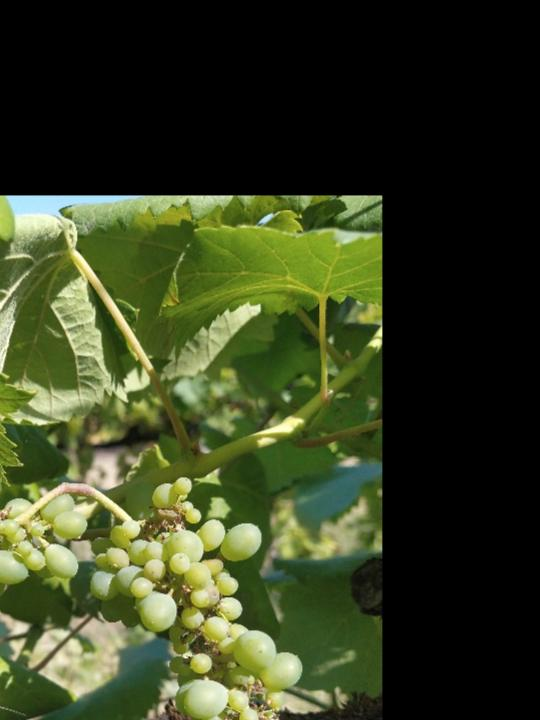grape: (0, 465, 319, 720)
